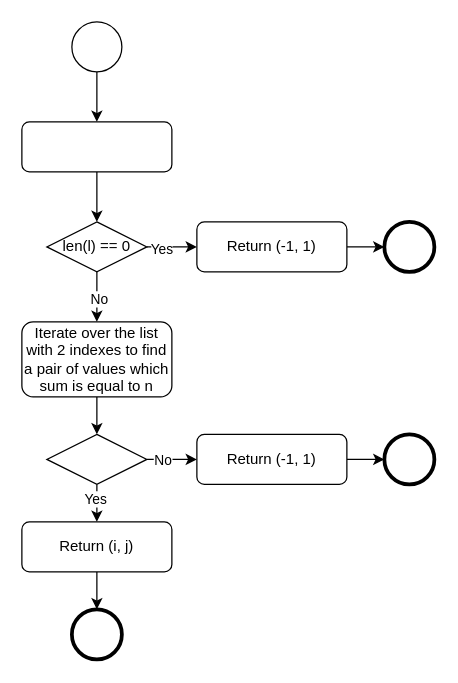
Some shapes in this 458 by 683 pixel diagram are drawn without their labels. Each missing label, with the centre of its shape:
"l[i]+l[j]==n" goes at (x=96, y=458).
"Receive a list of integer and an integer n" goes at (x=96, y=146).
